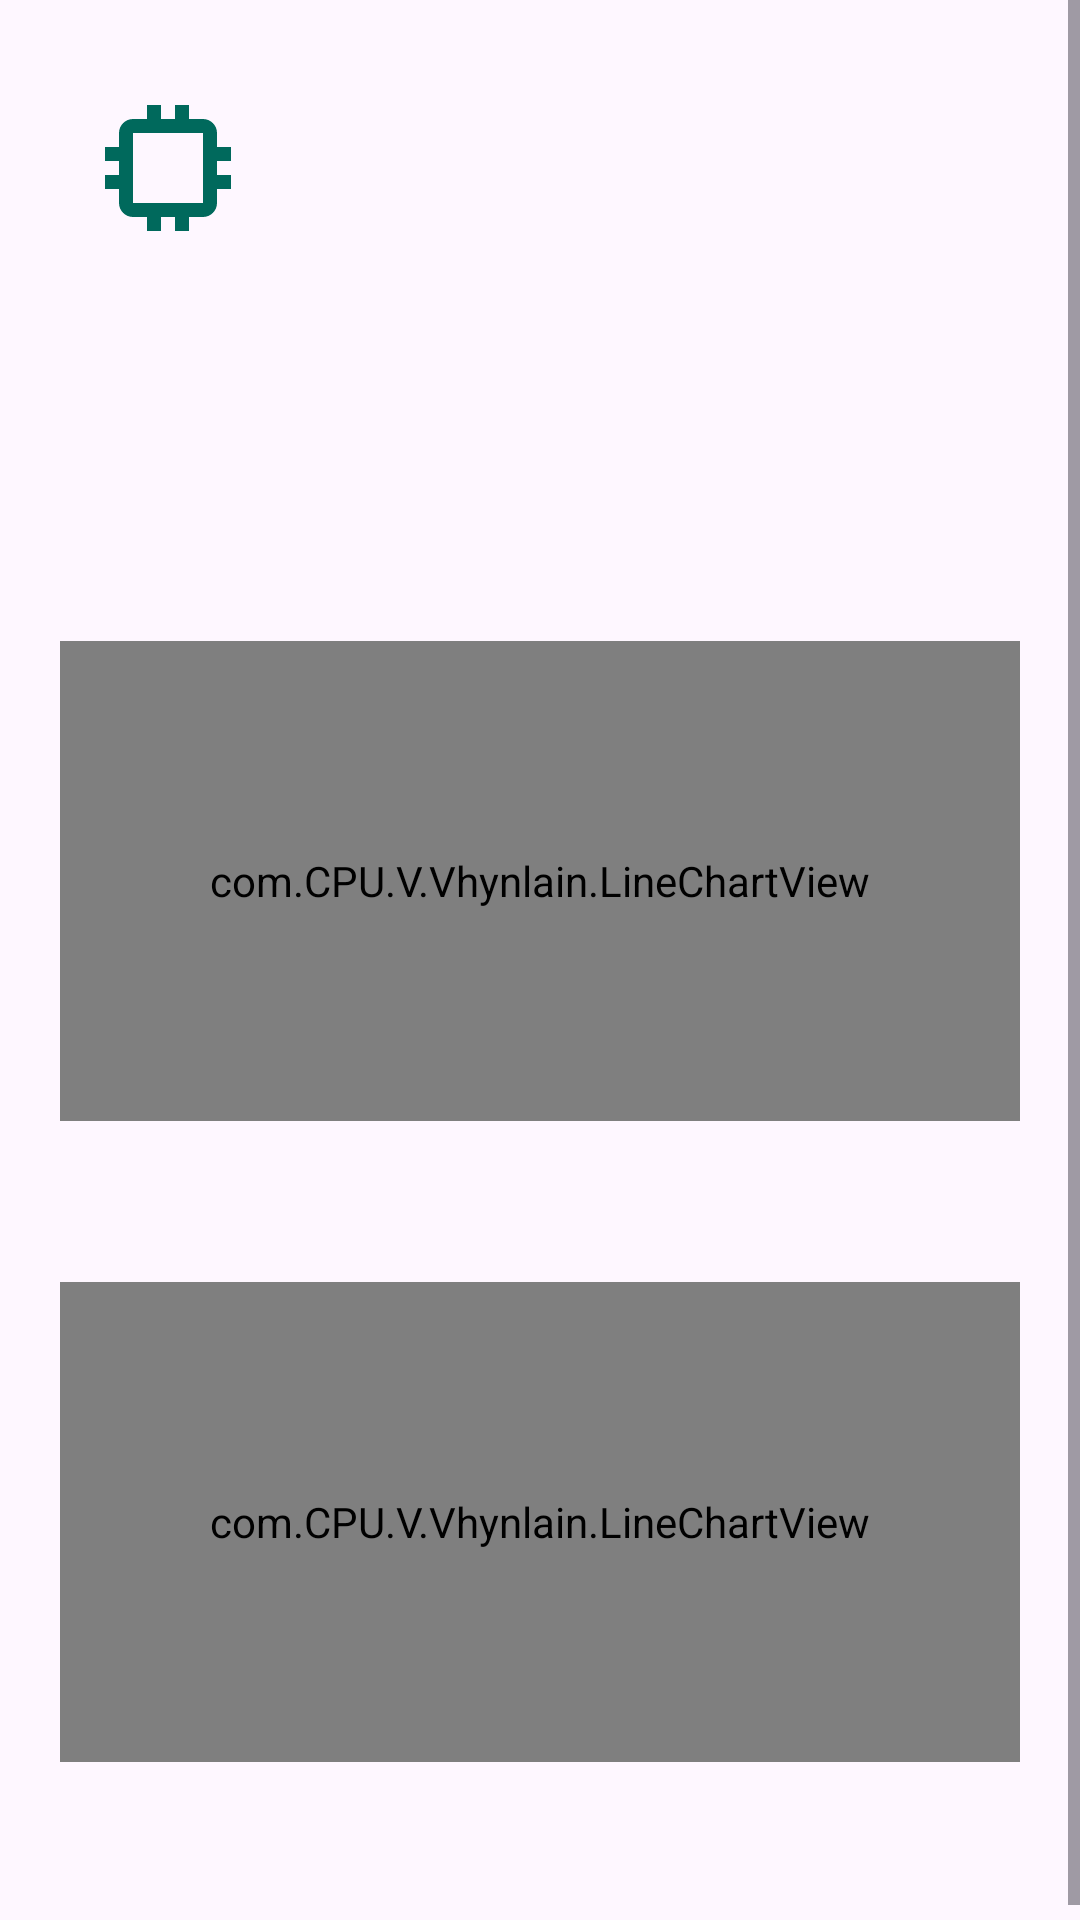

Named icons in this screenshot (1080*1920) and their centers, (x=x, y=y):
chip: (x=168, y=168)
